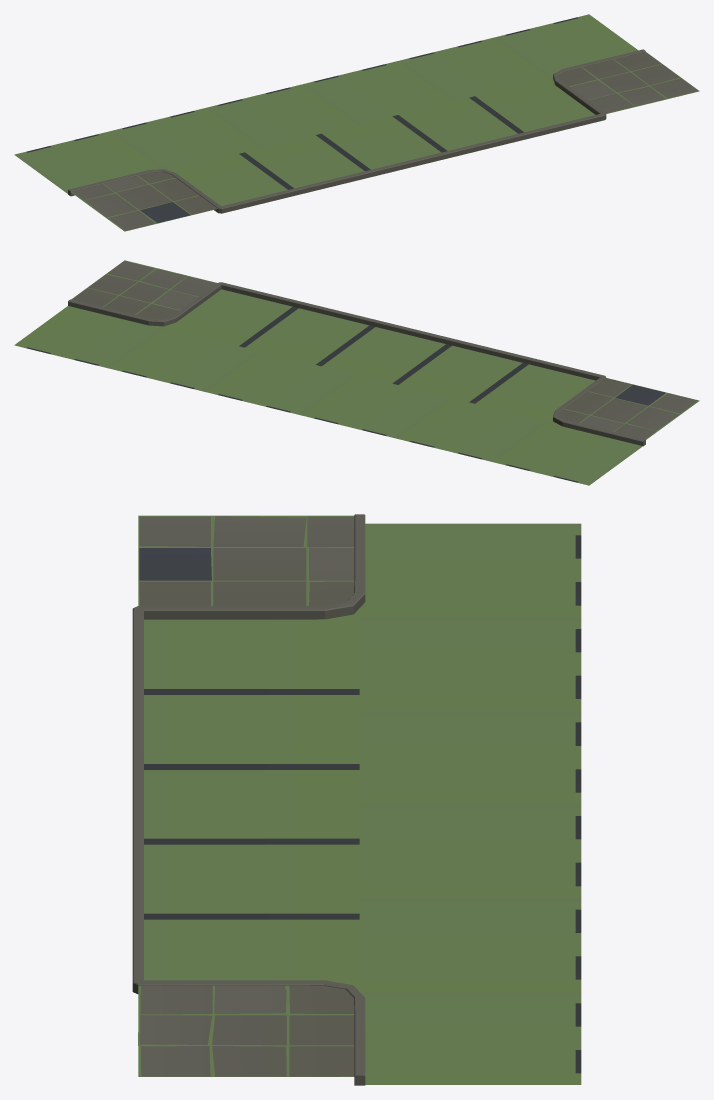
Rendered from Road_26.fbx.
3 views of the same model, one above another, from view 1: azimuth 30°, elevation 25°; view 2: azimuth 150°, elevation 25°; view 3: azimuth 270°, elevation 25° (orthographic). The views are drawn at different scales.
Visible parts, largest first — view 1: Road_26; view 2: Road_26; view 3: Road_26.
Boxes of the visible parts, x1,y1,x2,y2 form: Road_26: (14,14,699,231); Road_26: (14,260,699,485); Road_26: (132,514,581,1085).
Size of the model in its own units: 18 by 0.15 by 6.08.
